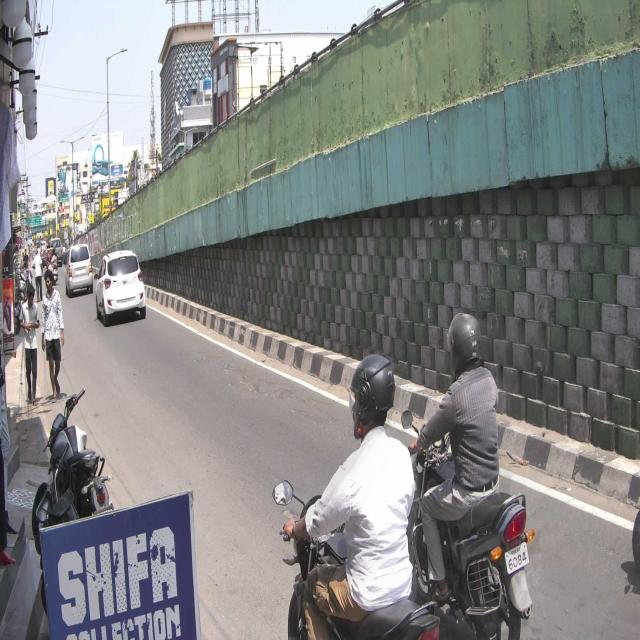single_rider: (410, 308, 535, 640), (276, 349, 407, 640)
